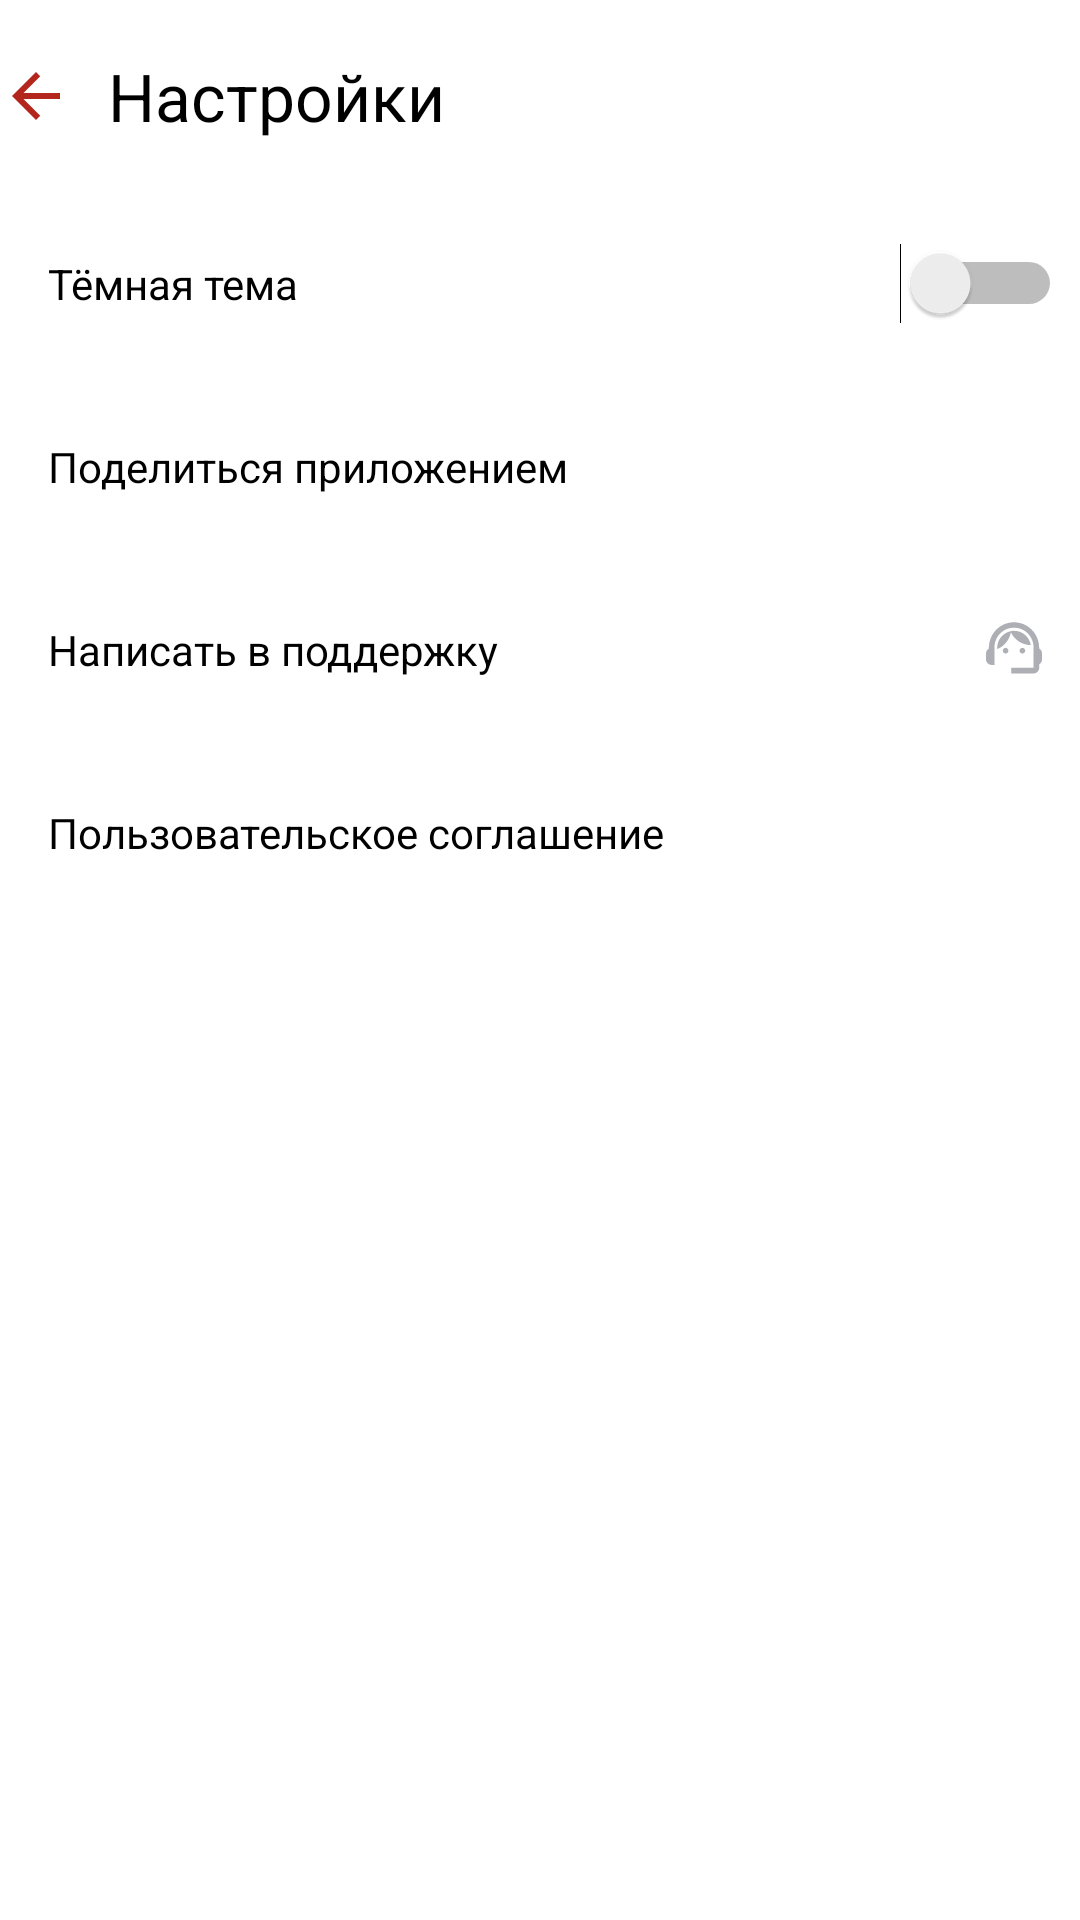

Icon bounding boxes for this 1080x1920 phone screenshot, format BBox(x1, y1, x2, y2):
back arrow: BBox(12, 72, 60, 120)
support: BBox(986, 622, 1042, 674)
